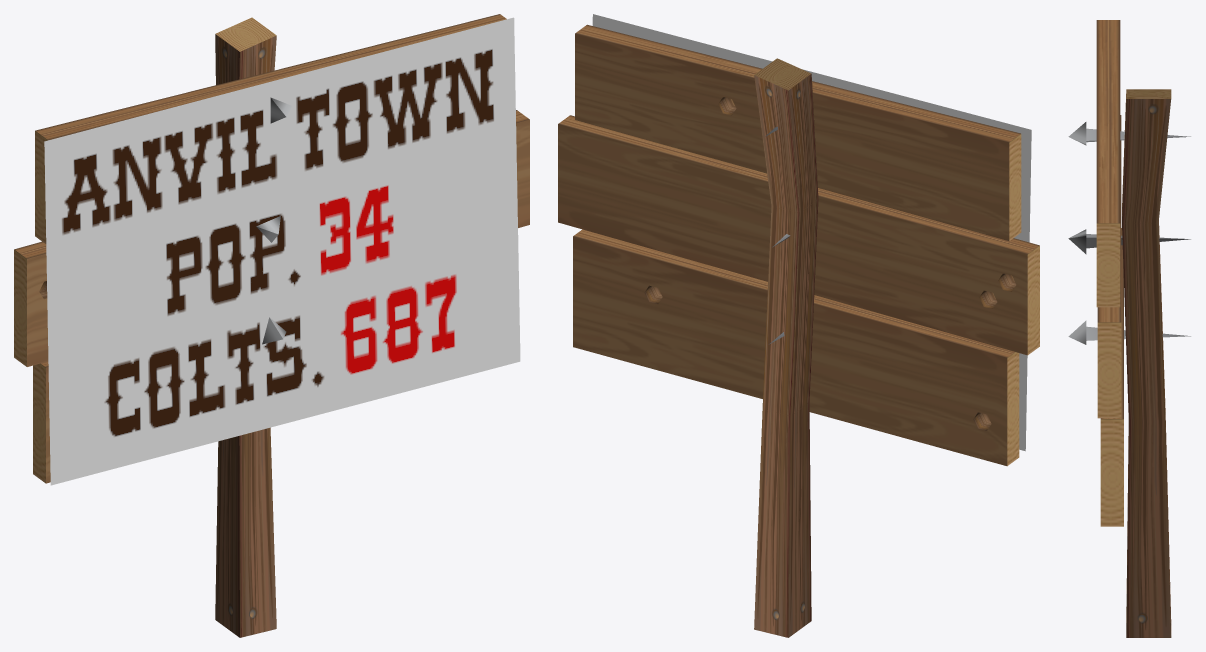
Rendered from Sign_City_01.FBX.
The picture shows the model from 3 angles, left to right: view 1: azimuth 30°, elevation 25°; view 2: azimuth 150°, elevation 25°; view 3: azimuth 270°, elevation 25°; orthographic projection. The views are drawn at different scales.
Visible parts, largest first — view 1: Text, Sign; view 2: Sign, Text; view 3: Sign.
Part boxes in pixels (bbox=[...]): Text: bbox=[44, 17, 520, 485]; Sign: bbox=[14, 14, 529, 637]; Sign: bbox=[558, 24, 1039, 637]; Text: bbox=[592, 14, 1031, 451]; Sign: bbox=[1068, 20, 1190, 637].
Size of the model in its own units: 1.92 by 2.16 by 0.4488.
